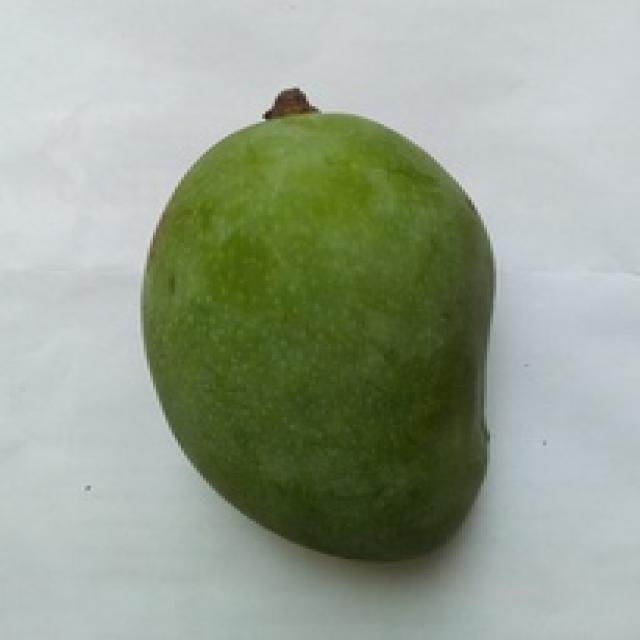Mango: (140, 106, 493, 559)
